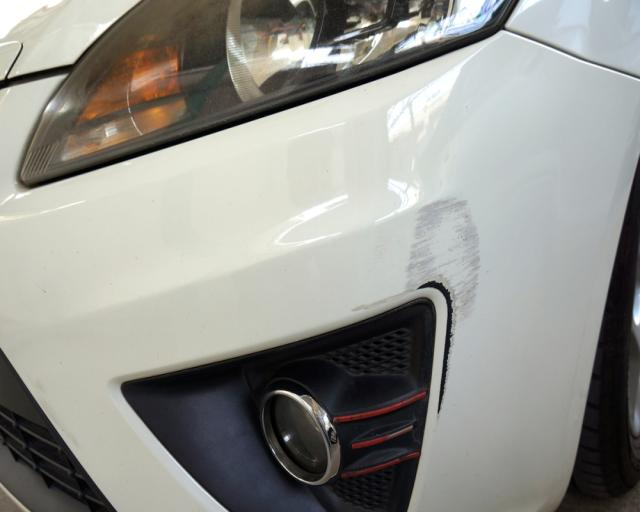scratch: (346, 192, 483, 423)
